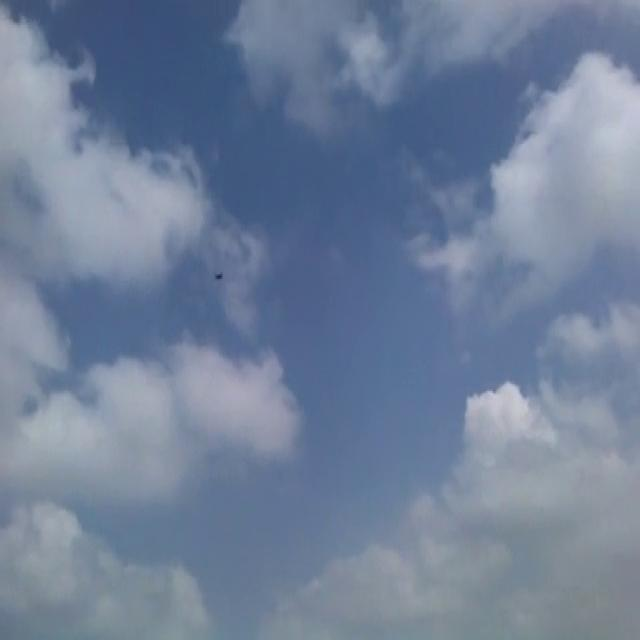drone: (211, 263, 225, 286)
